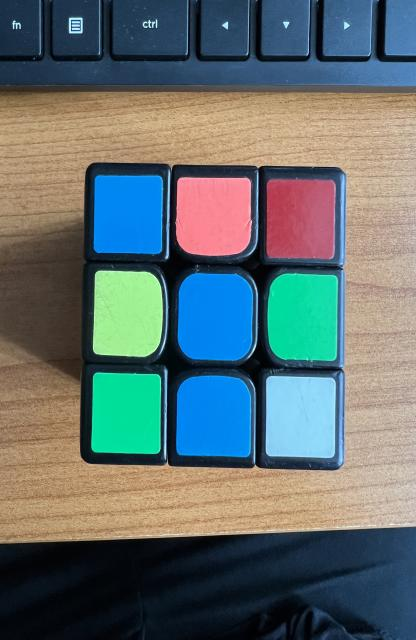Blue: (178, 272, 254, 361), (177, 375, 251, 458), (93, 175, 162, 254)
Green: (268, 274, 338, 361), (91, 372, 161, 454)
Orange: (176, 178, 252, 256)
Red: (266, 179, 336, 259)
White: (265, 376, 336, 458)
Yellow: (93, 270, 164, 356)
